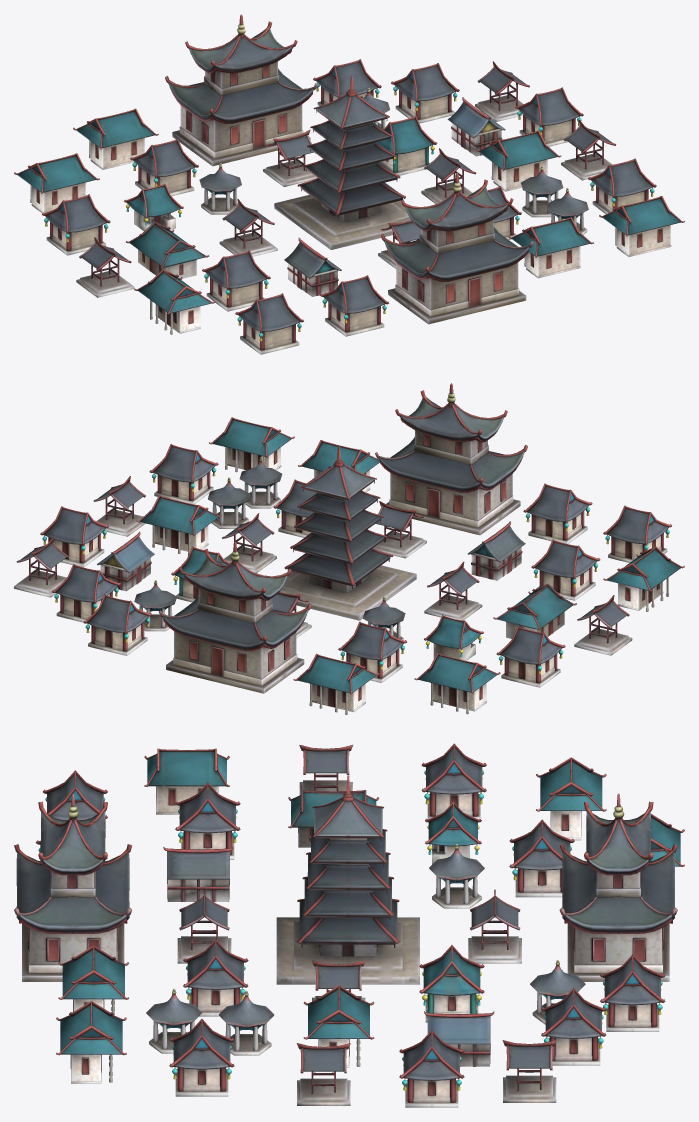
The model's file is city_chinese_4.glb.
3 renders of one model, top to bottom at view 1: azimuth 30°, elevation 25°; view 2: azimuth 150°, elevation 25°; view 3: azimuth 270°, elevation 25°, orthographic. The views are drawn at different scales.
Parts seen in each view (by area): view 1: low.001, low.013, low.004, low.034, low.024, low.029, low.009, low.027, low.036, low.022, low.028, low.020 (+22 smaller); view 2: low.013, low.001, low.004, low.029, low.027, low.009, low.019, low.021, low.022, low.032, low.028, low.034 (+23 smaller); view 3: low.004, low.013, low.001, low.034, low.032, low.030, low.028, low.021, low.020, low.027, low.023, low.014 (+21 smaller).
Part boxes in pixels (x1,y1,x2,y2): low.001: (381,172,533,324); low.013: (165,14,317,166); low.004: (274,75,410,249); low.034: (599,196,684,256); low.024: (508,217,593,278); low.029: (73,108,158,169); low.009: (475,130,561,191); low.027: (14,153,99,213); low.036: (235,293,303,354); low.022: (320,275,388,336); low.028: (134,269,215,334); low.020: (391,63,459,123); low.013: (159,541,311,693); low.001: (375,383,527,535); low.004: (280,446,416,620); low.029: (293,653,379,714); low.027: (414,653,500,714); low.009: (136,495,222,555); low.019: (496,626,565,687); low.021: (83,594,152,655); low.022: (523,483,592,543); low.032: (149,444,218,504); low.028: (603,546,684,611); low.034: (209,417,294,472); low.004: (276,774,419,984); low.013: (559,793,677,981); low.001: (14,793,132,981); low.034: (56,1001,126,1083); low.032: (169,1019,234,1096); low.030: (399,1030,464,1107); low.028: (144,748,229,814); low.021: (600,954,665,1031); low.020: (541,988,606,1065); low.027: (536,757,606,840); low.023: (509,819,574,897); low.014: (183,939,248,1016).
Size of the model in its own units: 52.31 by 13.6 by 45.72.
Materials: 3 (3 with a texture image).
